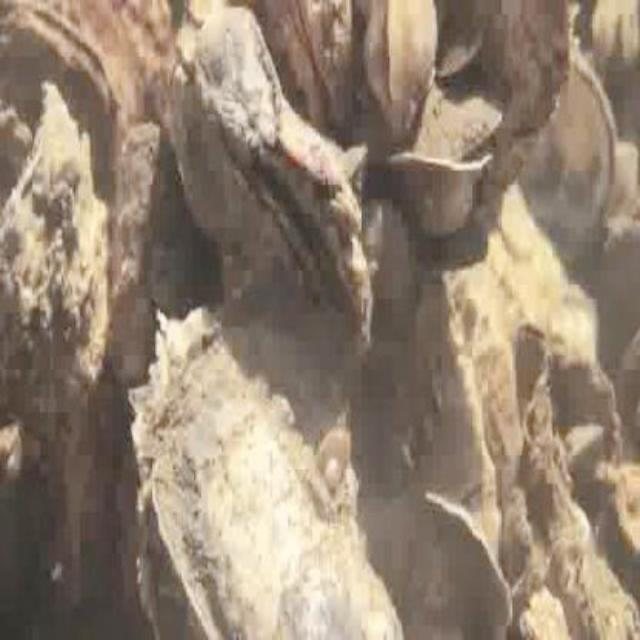Oyster-Closed: (129, 304, 407, 638), (0, 100, 114, 441), (1, 11, 121, 197), (110, 121, 191, 382), (525, 52, 619, 261), (467, 0, 564, 181), (200, 7, 282, 139)
Oyster-Open: (171, 25, 373, 327), (270, 0, 354, 140), (363, 0, 440, 137)
